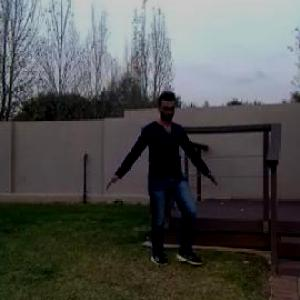land: (108, 94, 219, 286)
